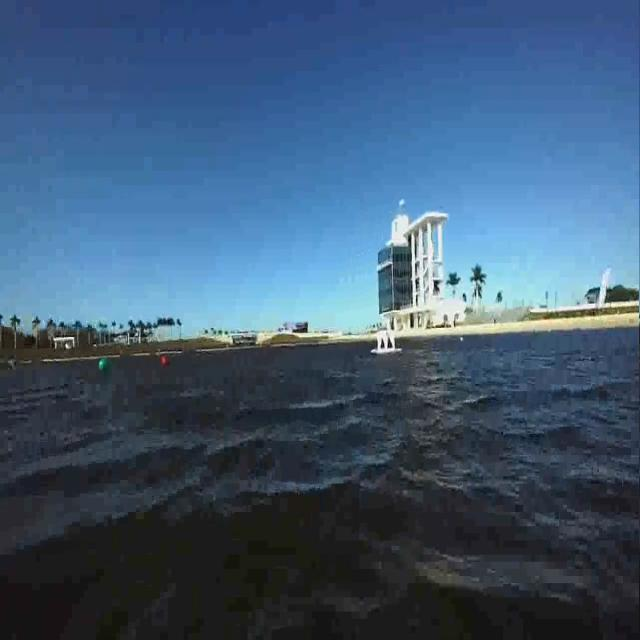green-buoy: (97, 358, 107, 372)
red-buoy: (163, 356, 169, 365)
